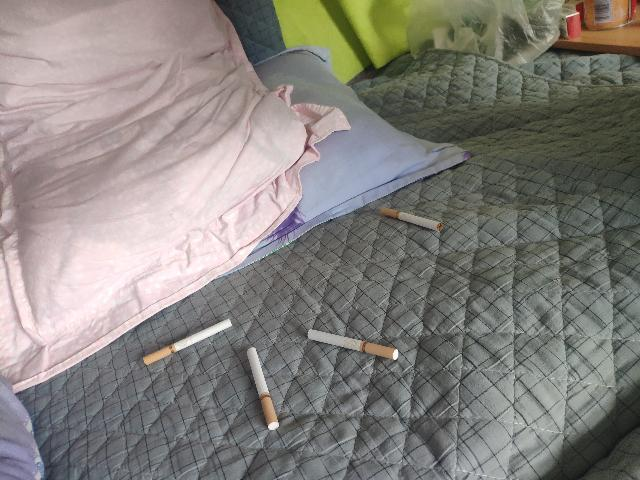Smoking: (143, 318, 233, 366), (308, 329, 400, 361), (247, 347, 280, 431), (381, 206, 444, 232)
